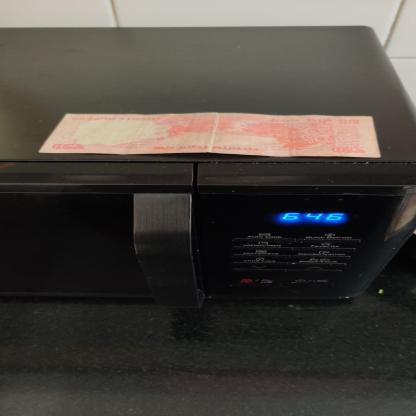Old20Back: (40, 112, 382, 158)
